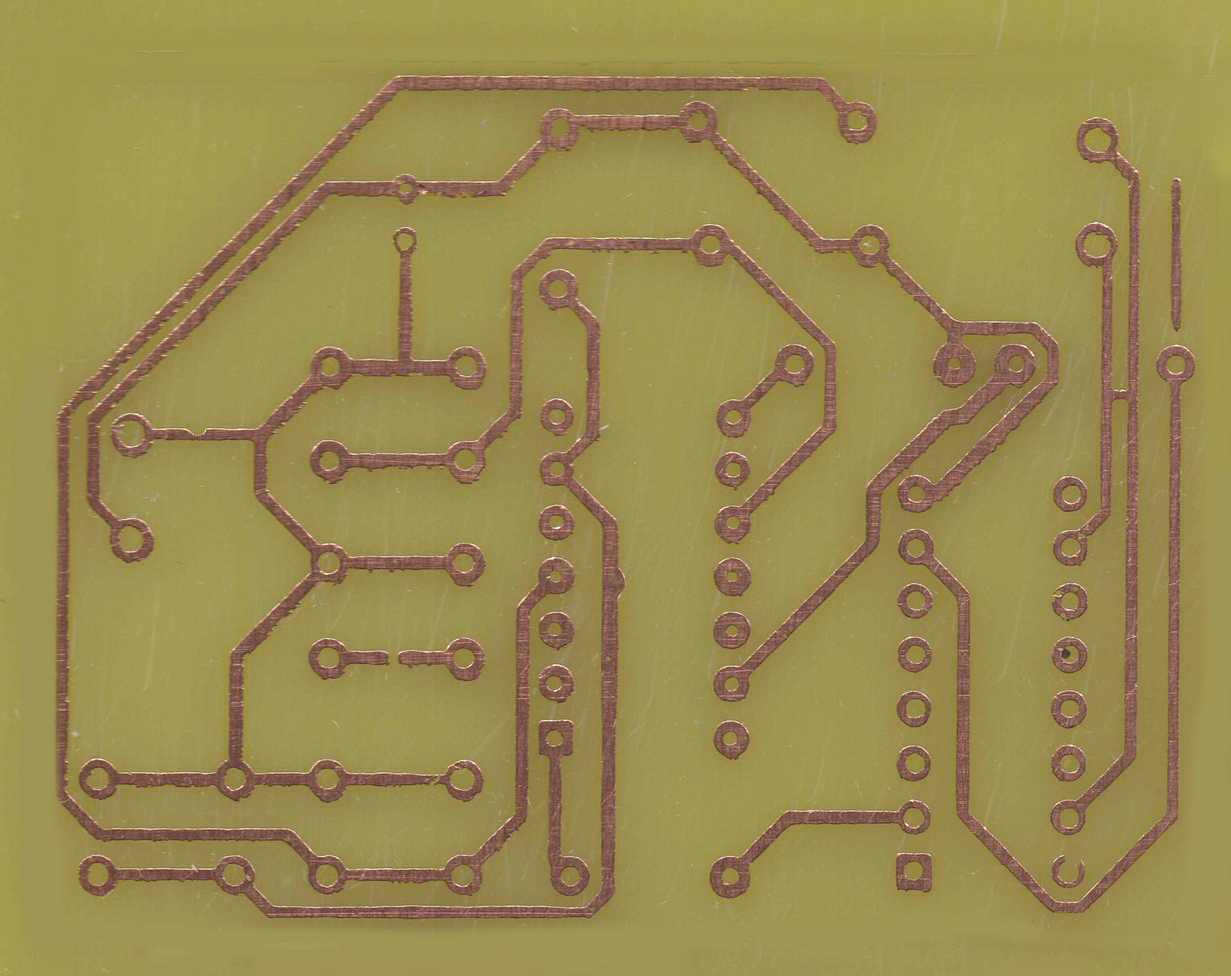missing_hole: (1049, 853, 1088, 892)
mouse_bite: (182, 422, 210, 443)
open_circuit: (378, 645, 409, 672)
short: (1094, 382, 1143, 405)
spur: (595, 558, 630, 610)
spurious_copper: (1163, 174, 1191, 338)
